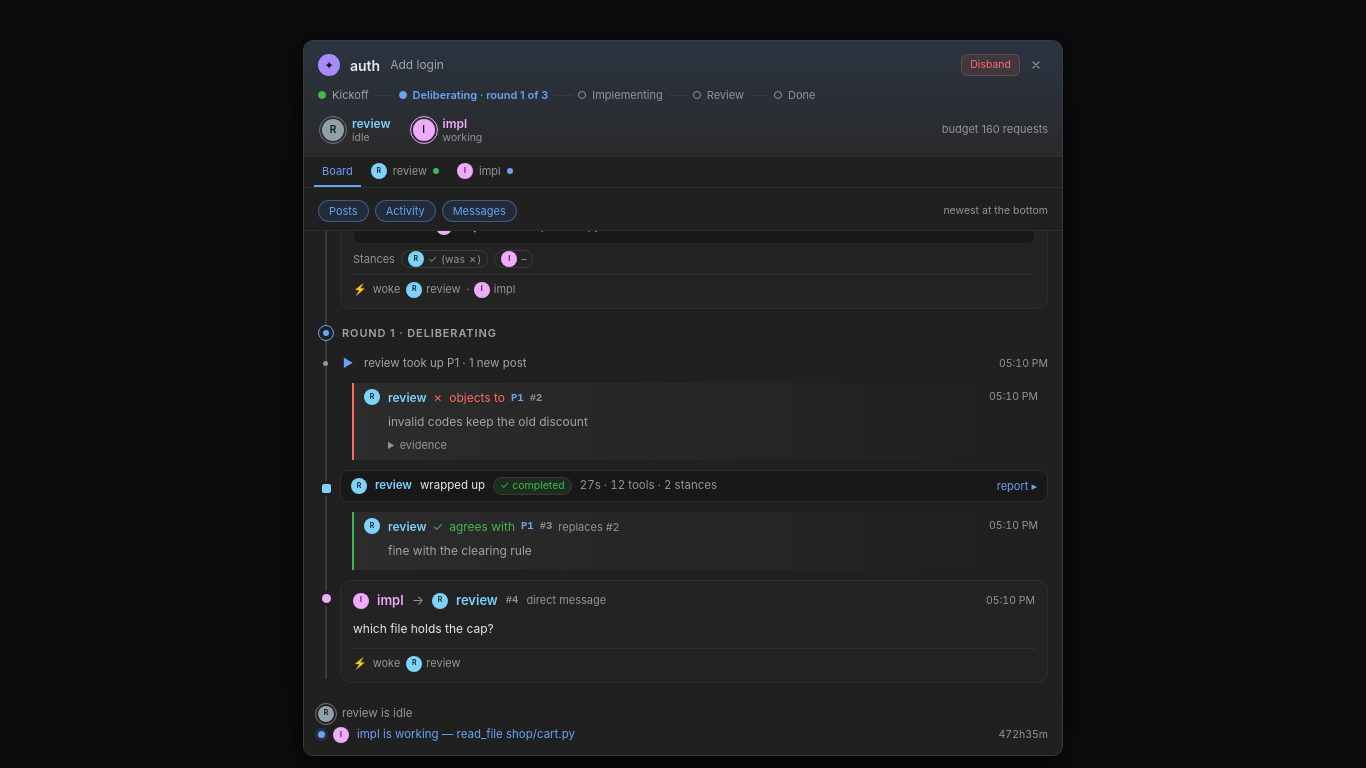
TeamWindow board › a message shows with its wake footer; hiding Messages leaves the wake standing alone
(page scrolled)
Expected: the text "which file holds the cap?" is shown, [353,621,494,636]
Expected: the element with test id "footer-p4" shows "woke review", [353,648,1035,672]
Click the button "Messages".
click(479, 211)  # box [442,200,517,222]
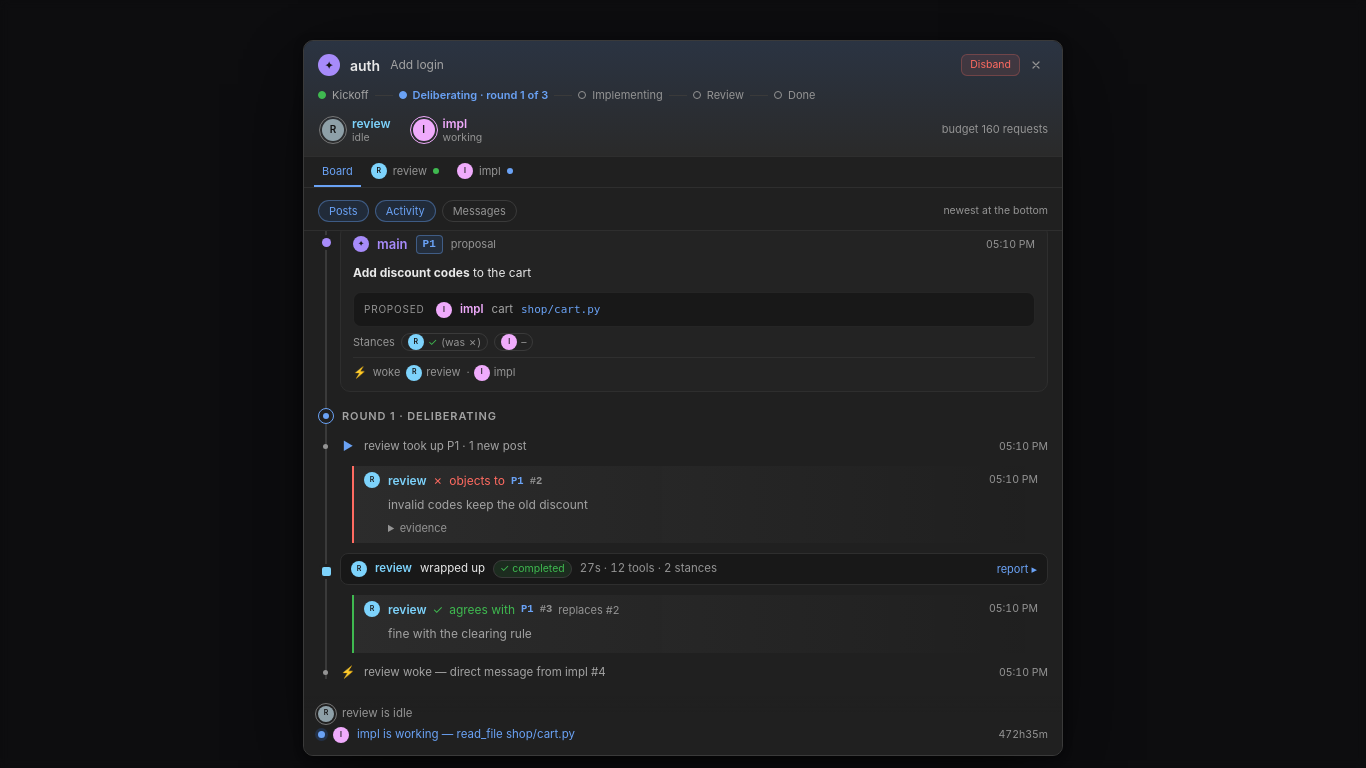
Result: the element with test id "beat-a6" shows "review woke — direct message from impl #4" at [364,665,606,679]
Result: the text "which file holds the cap?" is gone
